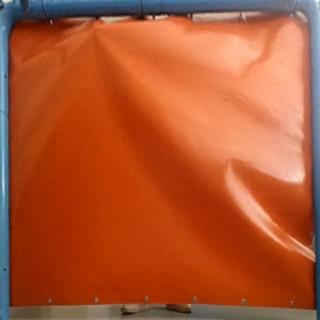Hit-hRxx: (88, 21, 104, 32)
